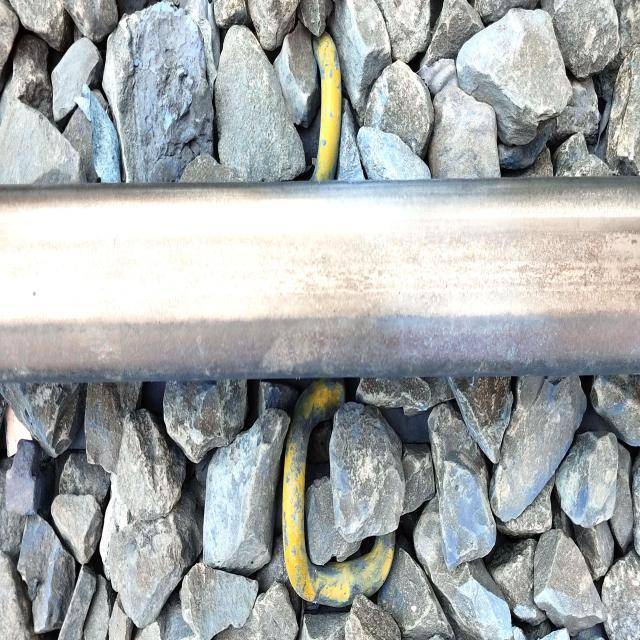Good Fasteners: (282, 379, 394, 605), (313, 31, 341, 181)
